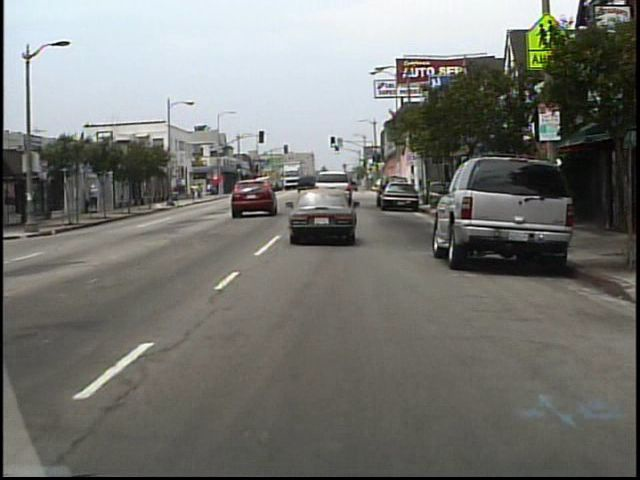person: (92, 184, 105, 214)
